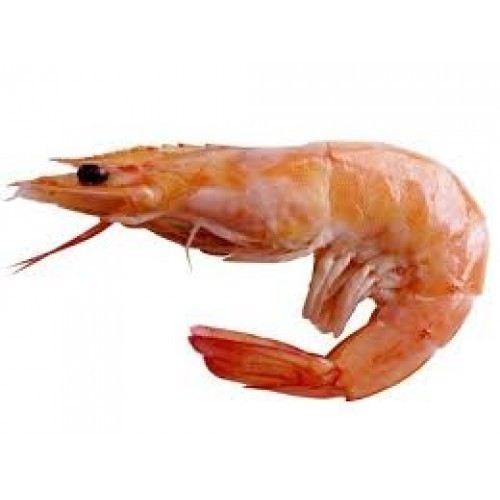Red Prawn: (10, 134, 491, 405)
